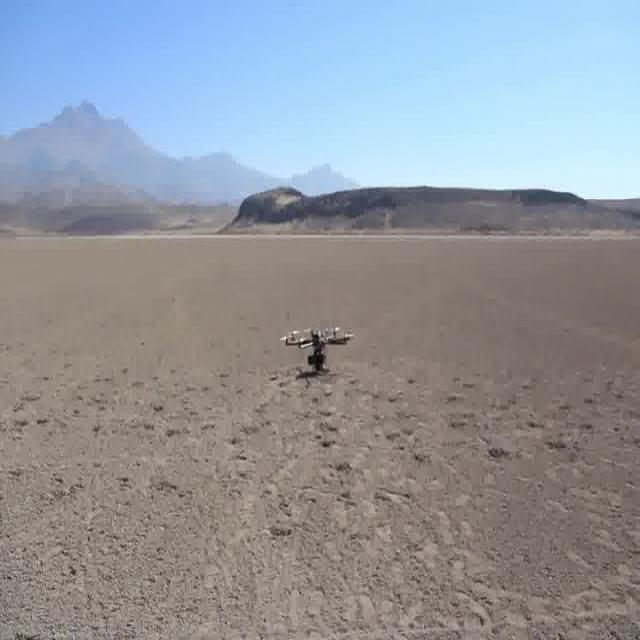drone: (275, 324, 357, 381)
